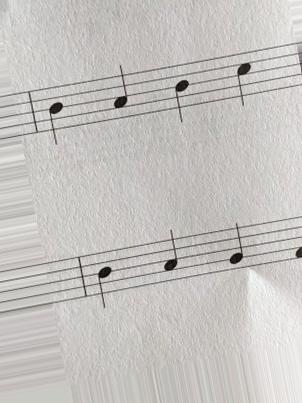A: (108, 61, 131, 131), (161, 224, 181, 287)
B: (44, 86, 68, 149), (172, 61, 193, 129), (95, 247, 115, 314)
G: (227, 218, 247, 277)
HC: (235, 49, 255, 110)
